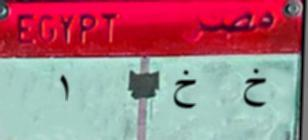1: (52, 68, 78, 104)
8: (234, 67, 271, 110)
khaa: (167, 66, 202, 113)
